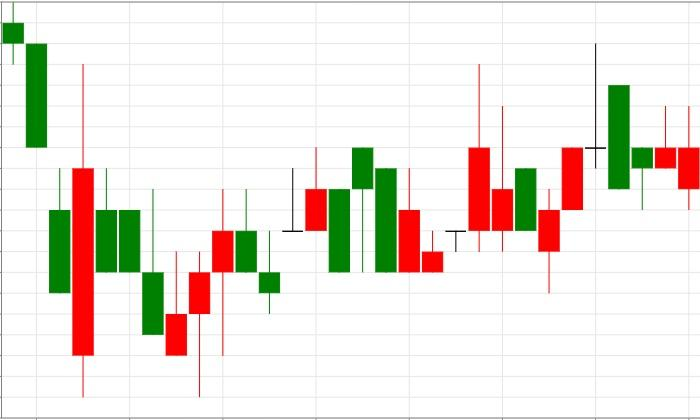three_white_soldiers_rise: (97, 167, 234, 397)
